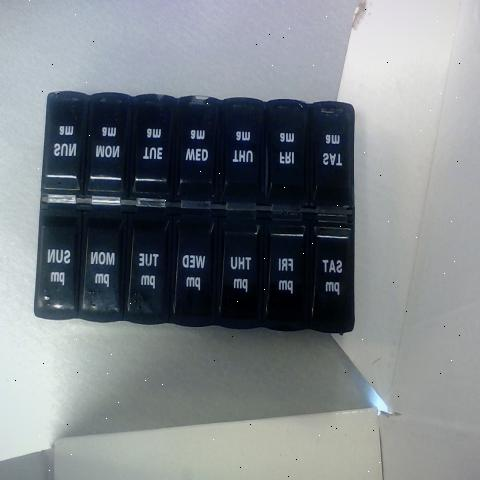FRI-am: (269, 104, 305, 198)
FRI-pm: (269, 219, 307, 327)
MON-am: (86, 89, 130, 193)
MON-pm: (82, 206, 122, 317)
SAT-am: (312, 109, 351, 206)
SAT-pm: (311, 220, 349, 330)
SUN-am: (48, 92, 82, 190)
SUN-pm: (40, 202, 77, 314)
THU-am: (225, 108, 266, 202)
THU-pm: (223, 217, 263, 325)
TUE-am: (130, 93, 170, 196)
TUE-pm: (130, 208, 172, 318)
WED-am: (179, 96, 221, 200)
WED-pm: (176, 207, 218, 320)
